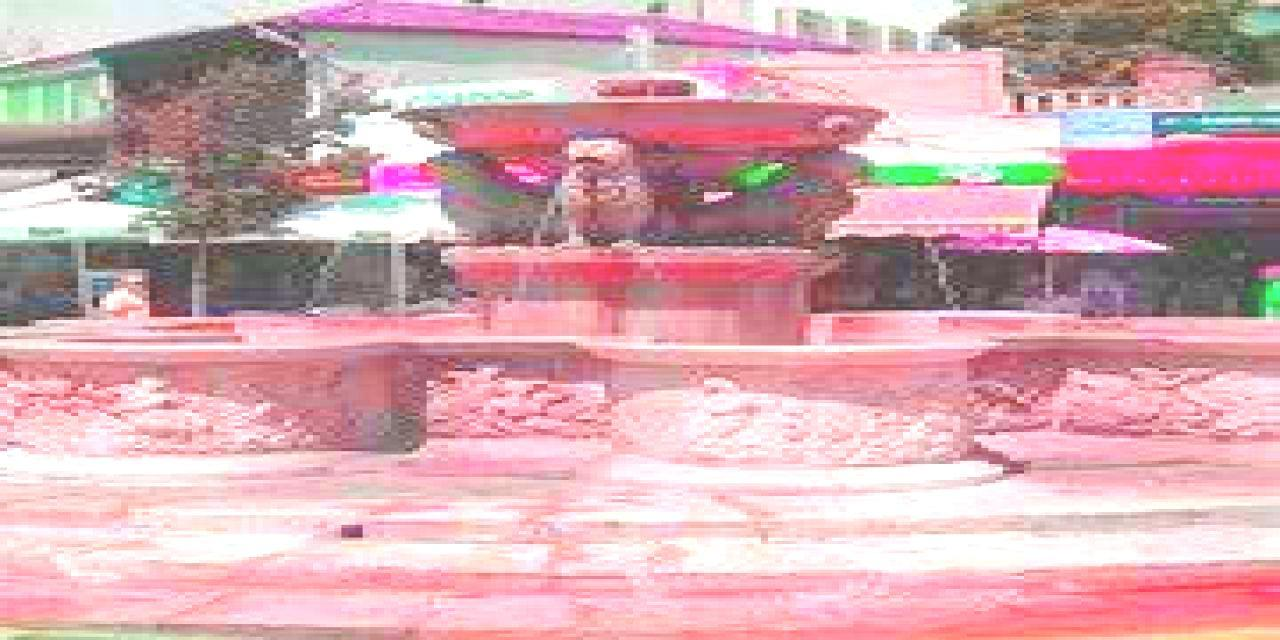Liontaria: (1, 76, 1280, 483)
